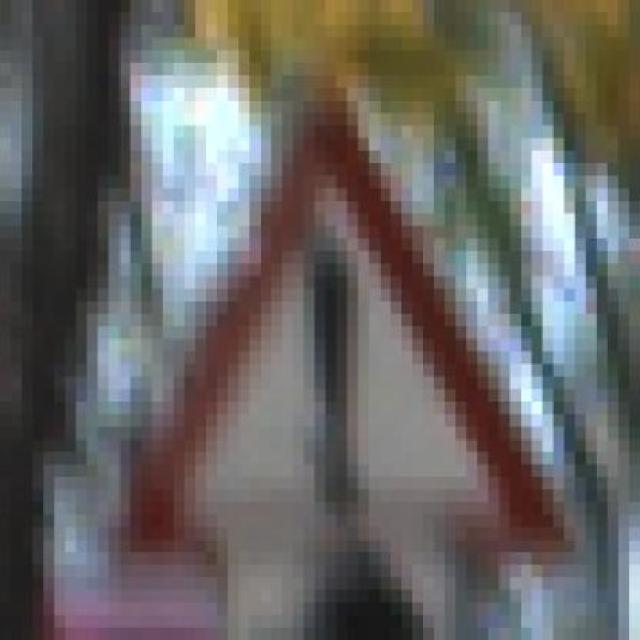Attention Please-: (75, 87, 576, 590)
